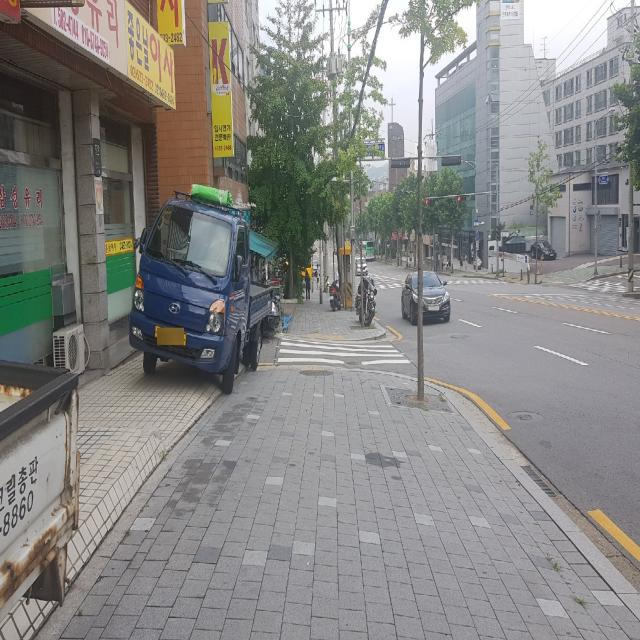횡단보도: (277, 337, 411, 366)
